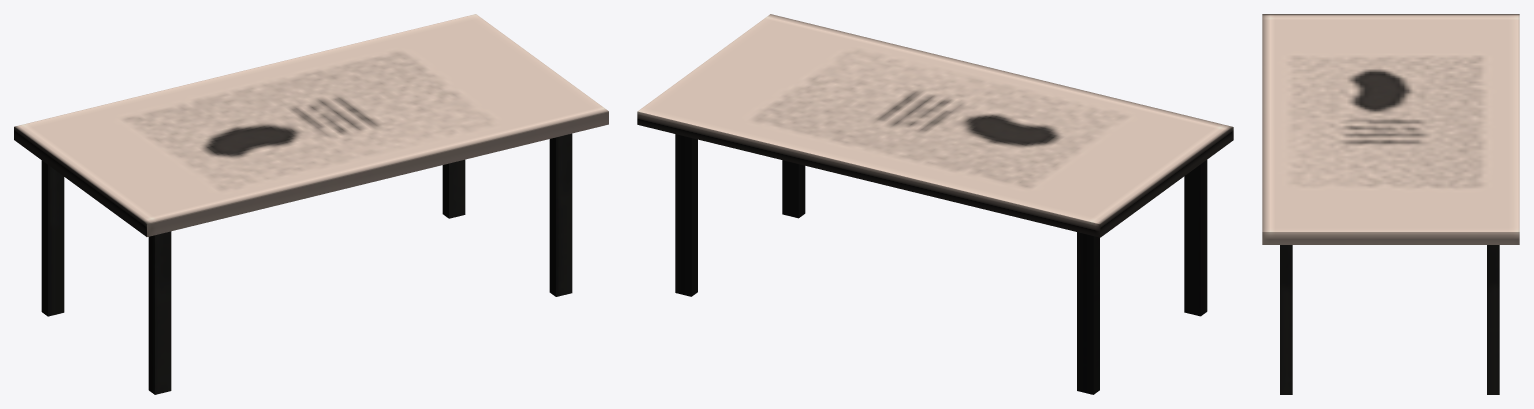
File: Tx_props_medical_tool_table.fbx
3 renders of one model, left to right at view 1: azimuth 30°, elevation 25°; view 2: azimuth 150°, elevation 25°; view 3: azimuth 270°, elevation 25°, orthographic. The views are drawn at different scales.
Parts seen in each view (by area): view 1: Tx_props_medical_tool_table; view 2: Tx_props_medical_tool_table; view 3: Tx_props_medical_tool_table.
Boxes of the visible parts, box(x1,y1,x2,y2) form: Tx_props_medical_tool_table: box(14, 14, 608, 394); Tx_props_medical_tool_table: box(637, 14, 1233, 394); Tx_props_medical_tool_table: box(1262, 14, 1519, 394).
Size of the model in its own units: 6.48 by 2.44 by 3.23.
